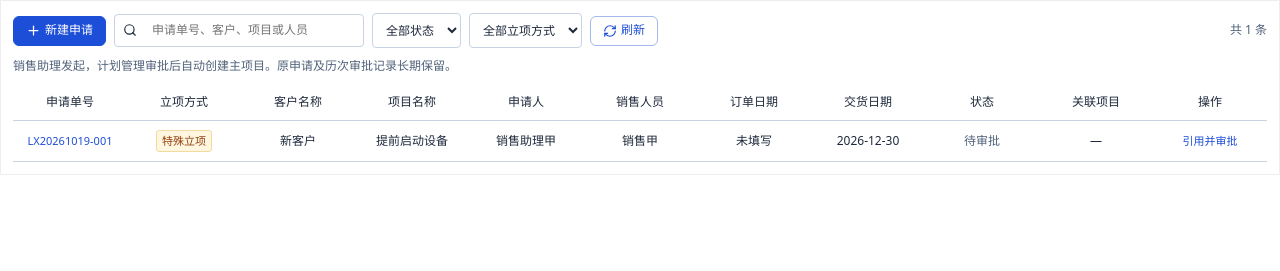
Test case: 立项申请 › 展示特殊立项、空订单日期及可筛选列表
The width and height of the screenshot is (1280, 271).
Check: the table with class "application-table" shows "特殊立项", box [162,133,206,148]
Check: the table with class "application-table" shows "未填写", box [736,132,772,149]
In the field named "搜索立项申请": (239, 30) [143,15,335,46], type "不匹配"
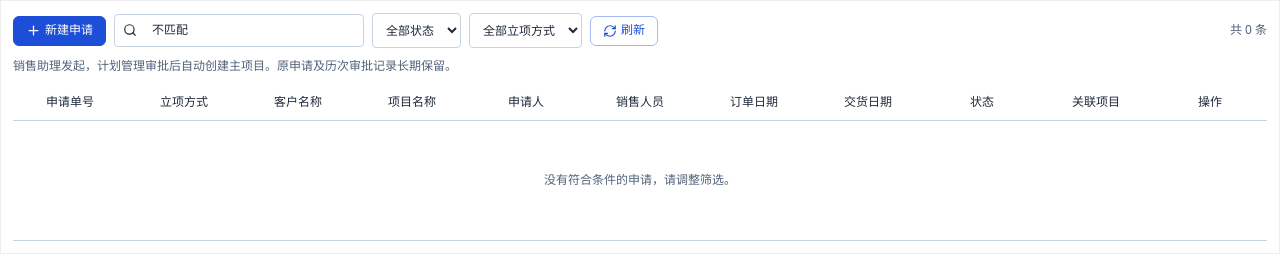
Check: the table with class "application-table" shows "没有符合条件的申请", box [544,171,736,188]
